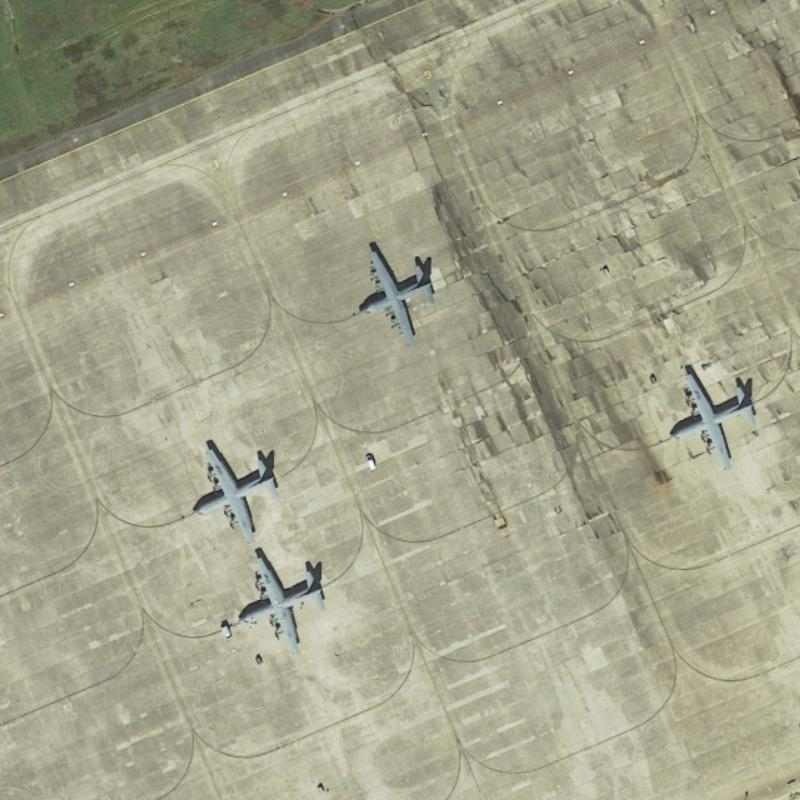A2: (231, 547, 333, 657), (184, 435, 281, 544), (662, 365, 763, 469), (350, 240, 439, 343)
